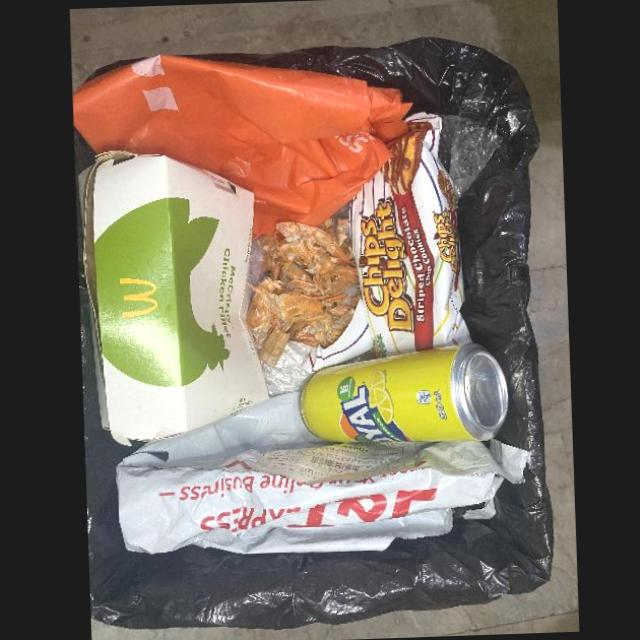bao_bi_thuc_pham: (299, 112, 471, 373)
carton: (77, 151, 268, 447)
nhom: (298, 342, 508, 443)
thuc_an_thua: (245, 218, 359, 368)
tui_ni_long: (115, 390, 501, 557), (72, 55, 413, 238)
